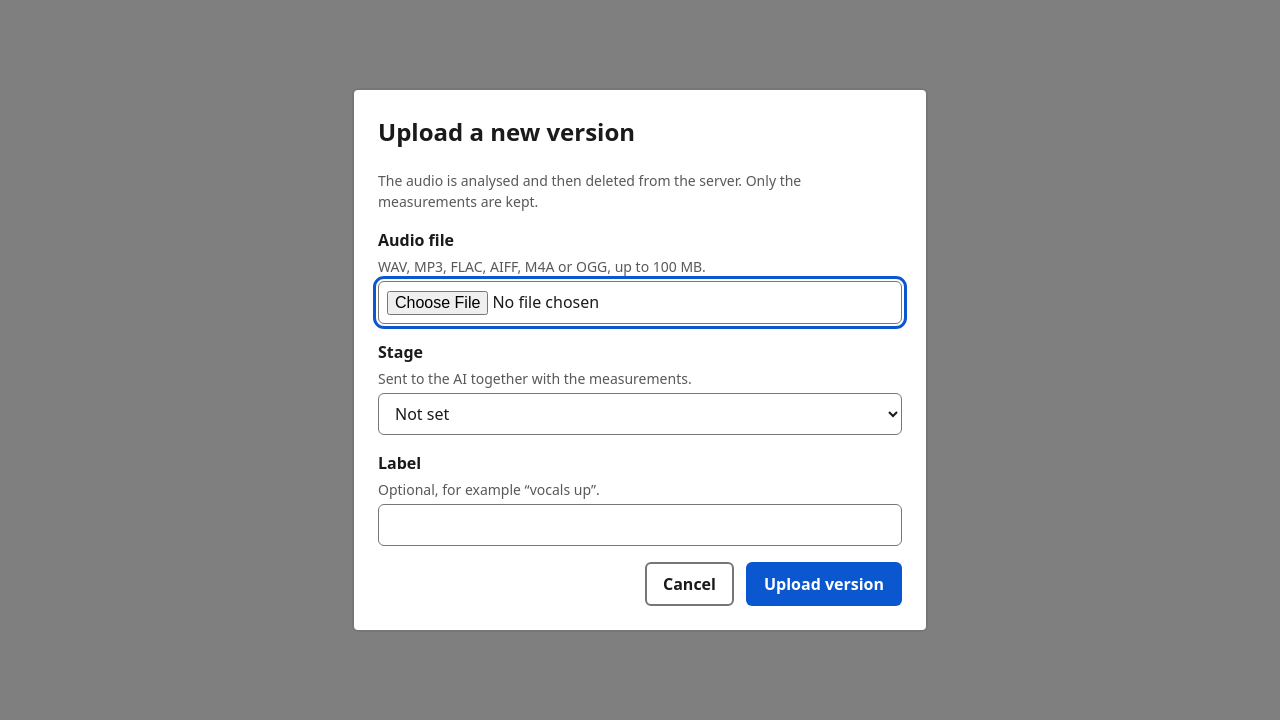
Test: refused uploads › shows an alert for 415 unsupported_media_type and stays open
Earlier steps of the test are not shown.
Click the button "Upload version" at (824, 584), box [746,562,902,606]
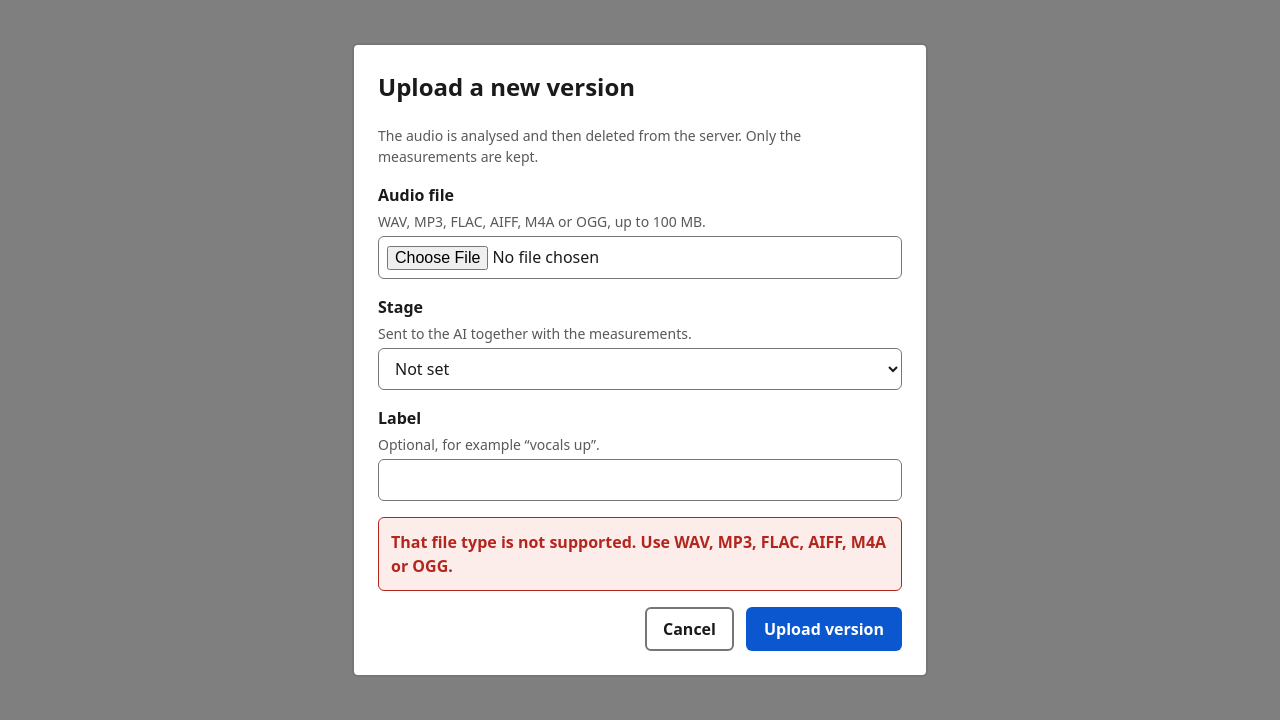
Expected: the button "Upload version" is enabled, [746,607,902,651]
Expected: the message reads "That file type is not supported. Use WAV, MP3, FLAC, AIFF, M4A or OGG.", [391,531,886,577]
